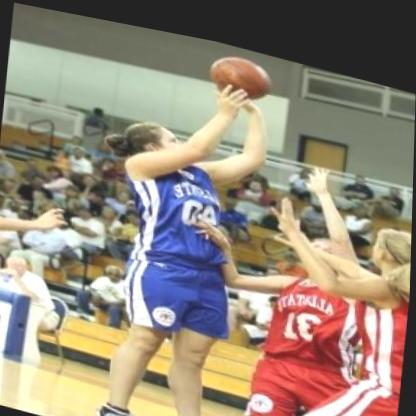basketball: (204, 31, 281, 100)
